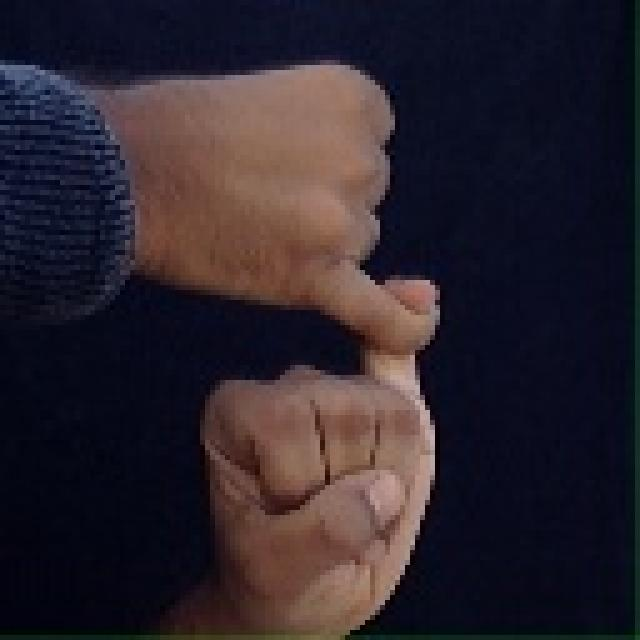S: (115, 0, 450, 635)
